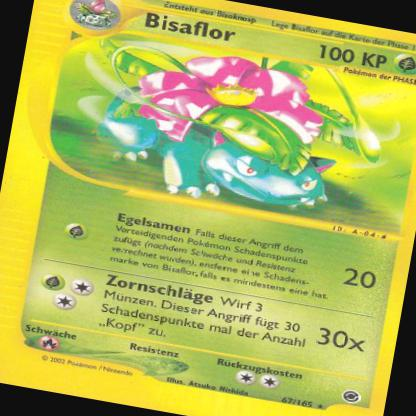Venusaur: (92, 37, 398, 226)
